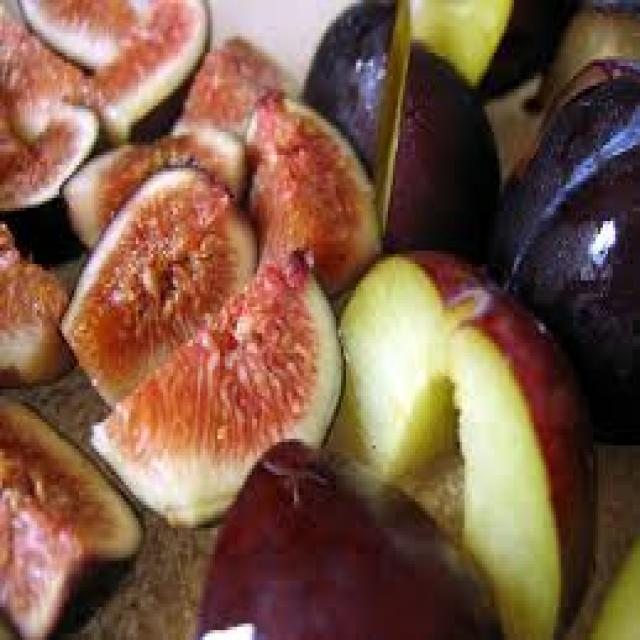organic waste: (336, 244, 596, 634), (94, 250, 343, 524), (193, 438, 499, 636), (499, 56, 638, 442), (59, 162, 254, 379), (0, 396, 141, 633), (381, 40, 496, 257), (245, 96, 378, 280), (294, 0, 408, 168), (91, 0, 212, 139), (2, 105, 102, 248), (0, 10, 89, 155), (0, 221, 72, 389), (402, 0, 538, 82), (188, 43, 296, 142), (10, 0, 175, 56), (544, 0, 638, 96)
